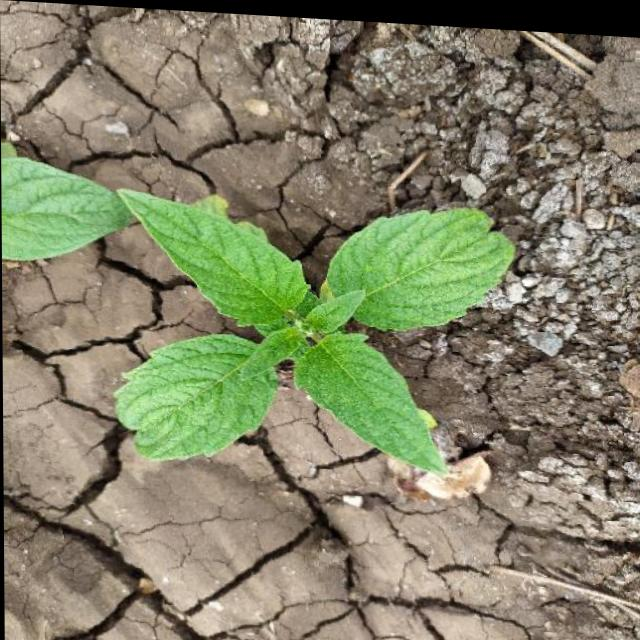crop: (117, 170, 539, 506)
